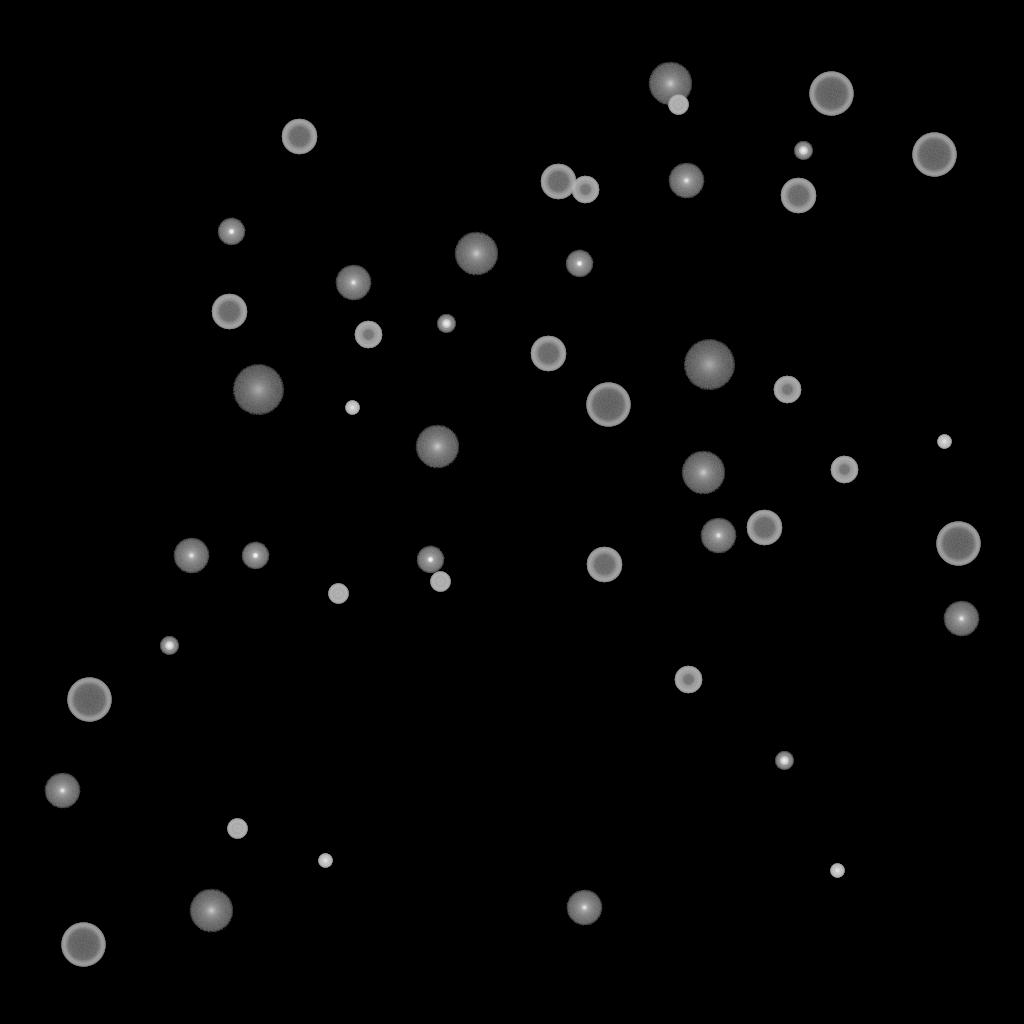depth:-10: (241, 542, 269, 570), (217, 218, 245, 246), (416, 546, 444, 574), (565, 250, 593, 278)
depth:-20: (775, 752, 793, 770), (437, 315, 455, 333), (160, 637, 178, 655), (794, 142, 812, 160)
depth:-30: (345, 401, 359, 415), (830, 864, 844, 878), (937, 435, 951, 449), (318, 854, 332, 868)
depth:-40: (668, 95, 688, 115), (430, 572, 450, 592), (227, 819, 247, 839), (328, 584, 348, 604)
depth:-50: (571, 176, 599, 204), (773, 376, 801, 404), (354, 321, 382, 349), (674, 666, 702, 694), (830, 456, 858, 484)
depth:-60: (540, 164, 576, 200), (211, 294, 247, 330), (746, 510, 782, 546), (586, 547, 622, 583), (530, 336, 566, 372), (281, 119, 317, 155), (780, 178, 816, 214)
depth:-70: (936, 522, 980, 566), (912, 133, 956, 177), (67, 678, 111, 722), (61, 923, 105, 967), (809, 72, 853, 116), (586, 383, 630, 427)
depth:0: (335, 265, 371, 301), (44, 773, 80, 809), (173, 538, 209, 574), (668, 163, 704, 199), (700, 518, 736, 554), (943, 601, 979, 637), (566, 890, 602, 926)
depth:10: (681, 451, 725, 495), (648, 62, 692, 106), (415, 425, 459, 469), (189, 889, 233, 933), (454, 232, 498, 276)
depth:20: (683, 340, 735, 390), (232, 365, 284, 415)
